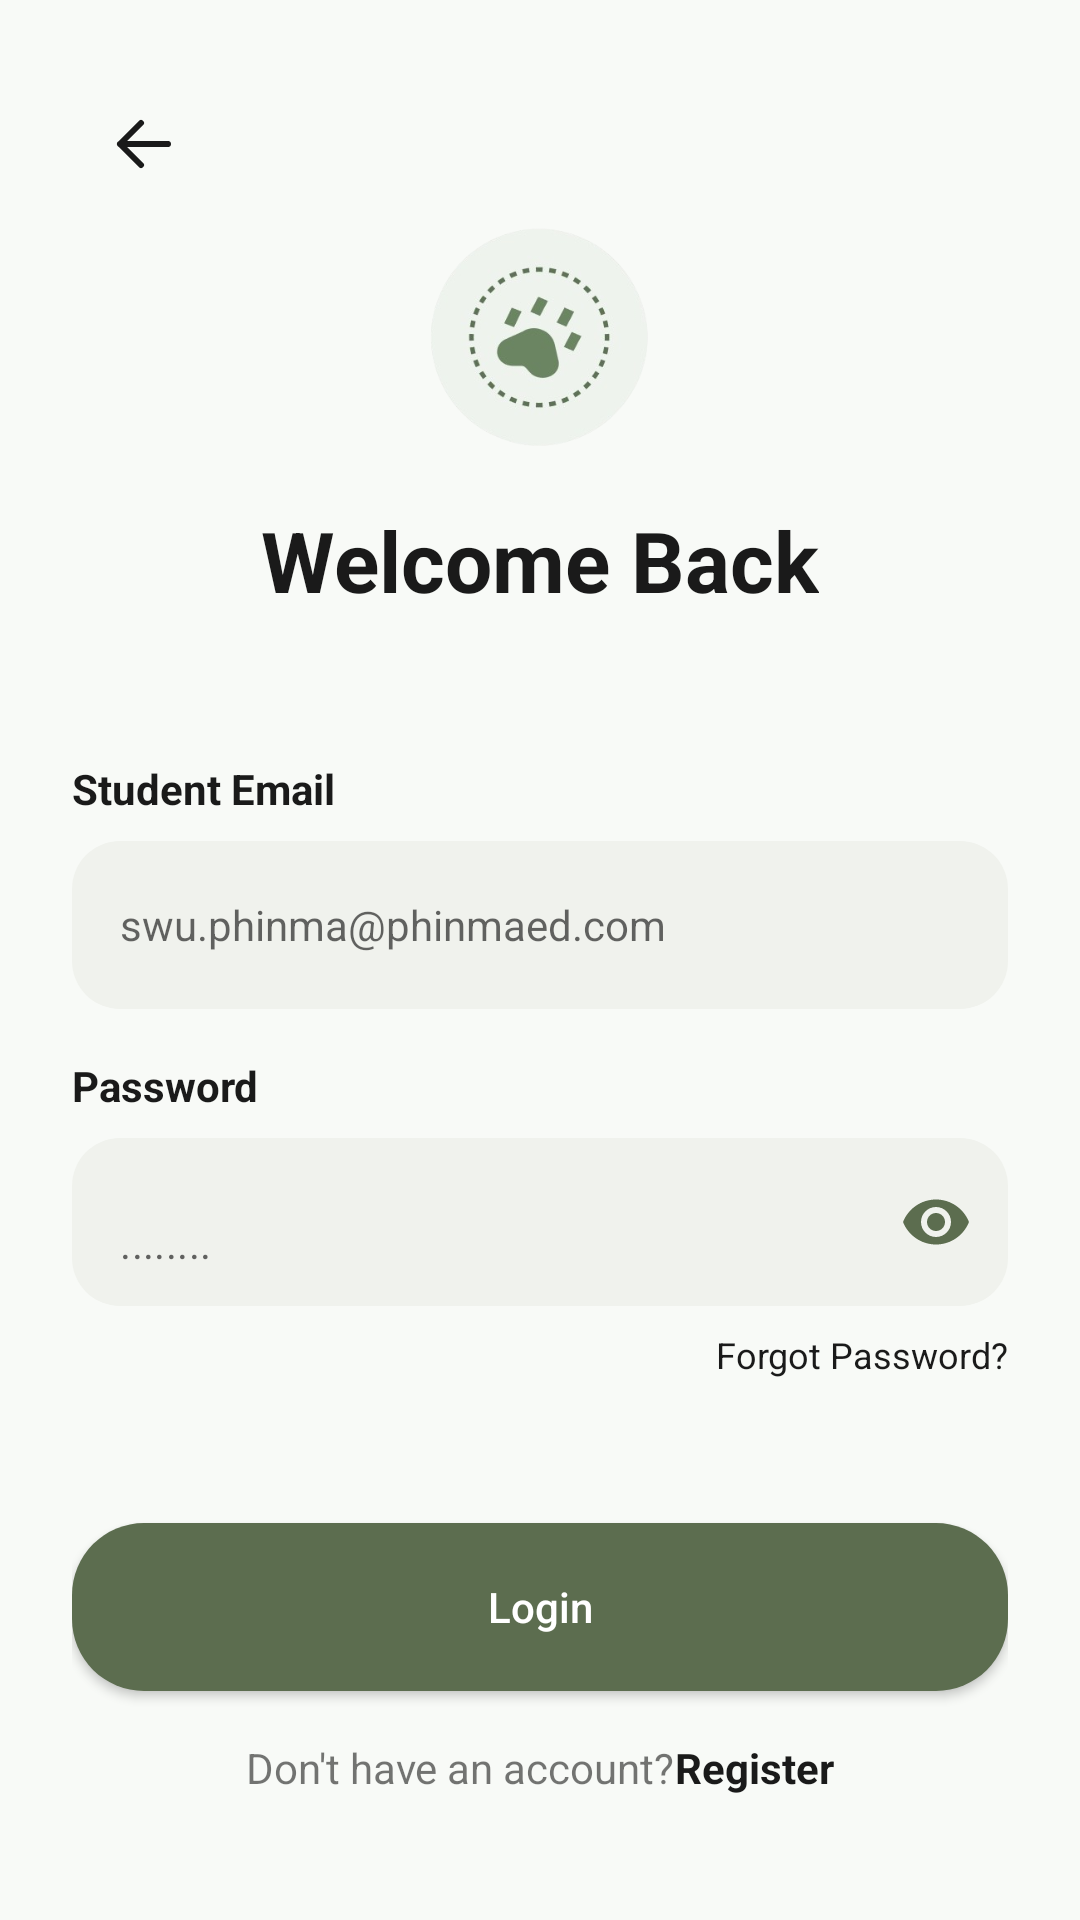

Named icons in this screenshot (1080x1920) and their centers, point (x, y):
Back: point (144, 144)
